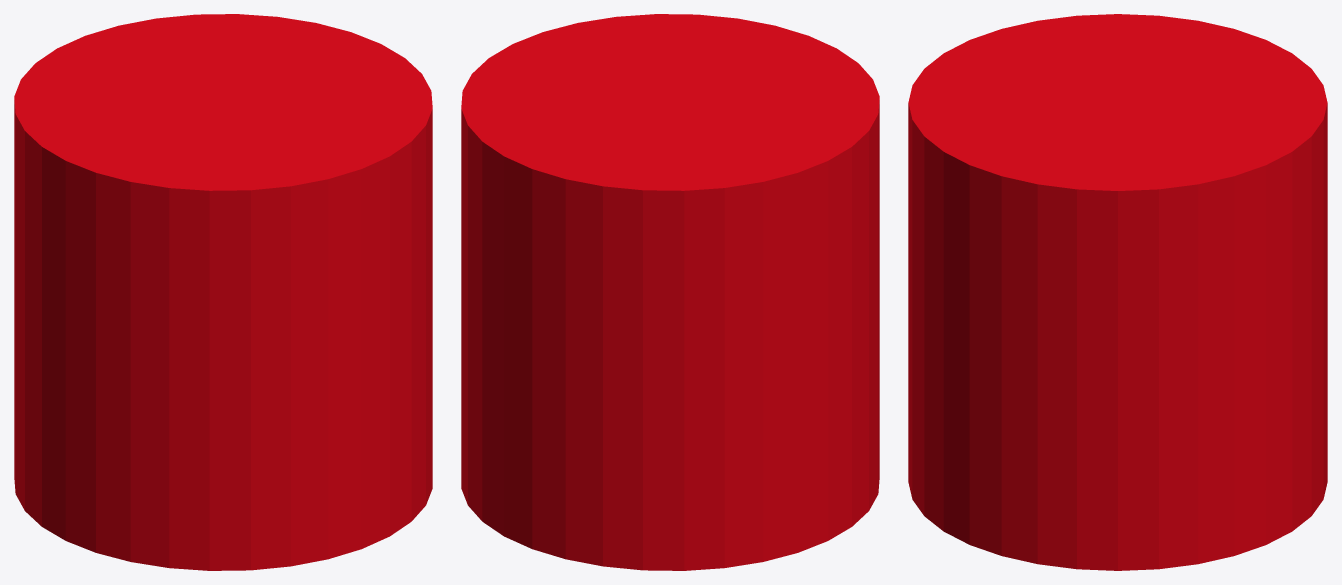
Rendered from 04 - cilinder.gltf.
3 renders of one model, left to right at view 1: azimuth 30°, elevation 25°; view 2: azimuth 150°, elevation 25°; view 3: azimuth 270°, elevation 25°, orthographic.
Parts seen in each view (by area): view 1: Cylinder; view 2: Cylinder; view 3: Cylinder.
Boxes of the visible parts, left/top/right/bottom form: Cylinder: left=14, top=14, right=432, bottom=570; Cylinder: left=461, top=14, right=879, bottom=570; Cylinder: left=908, top=14, right=1327, bottom=570.
Size of the model in its own units: 2 by 2 by 2.
